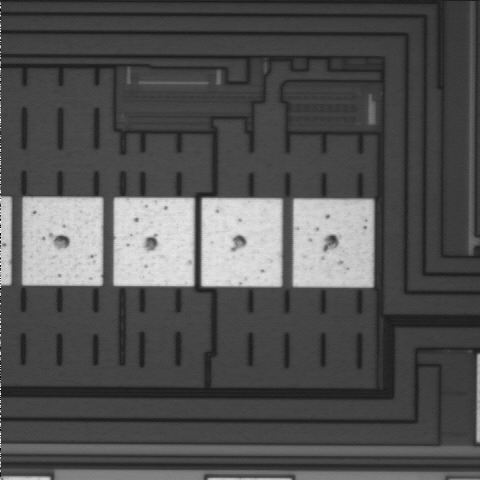pad: (23, 198, 103, 286), (114, 198, 194, 286), (202, 198, 282, 286), (293, 199, 373, 287)
